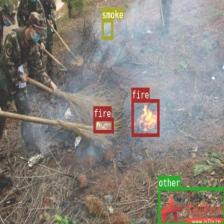fire: (131, 98, 159, 136), (93, 118, 113, 132)
smoke: (101, 18, 113, 39)
